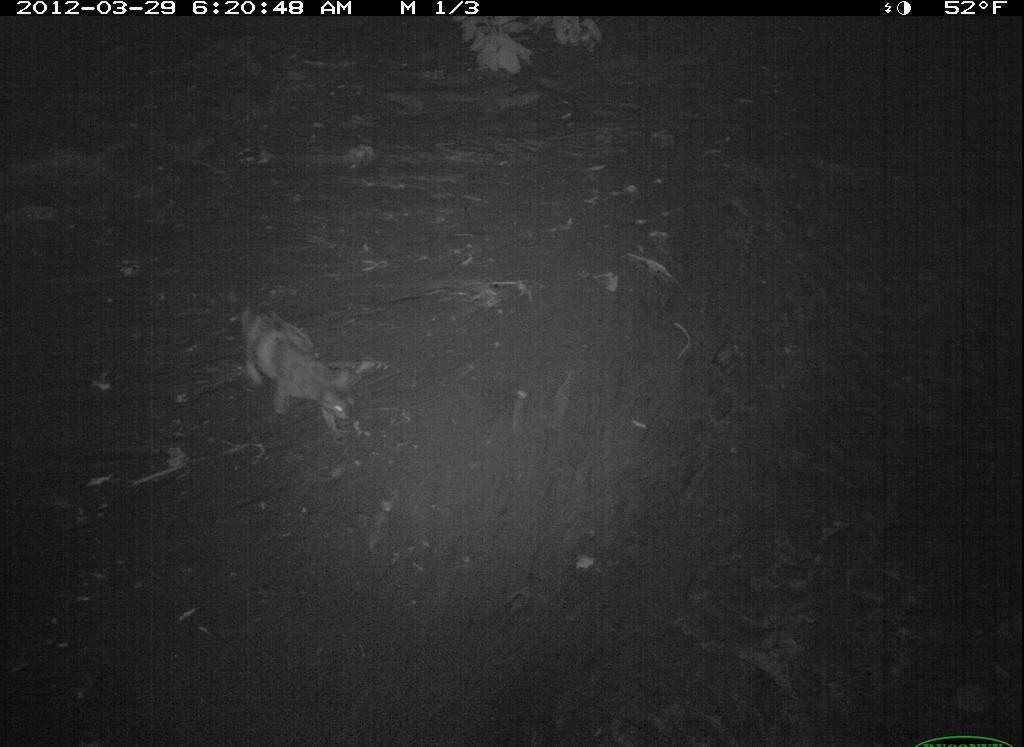cat: (225, 294, 376, 451)
